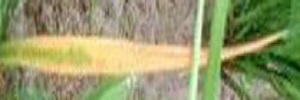RiceTungro: (4, 29, 279, 73)
